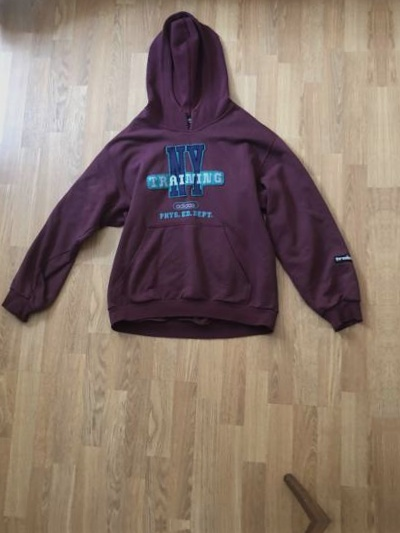Hoodie: (0, 3, 369, 379)
